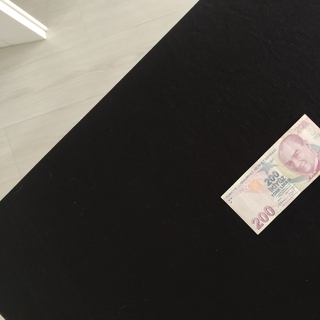200TLFront: (220, 113, 320, 235)
